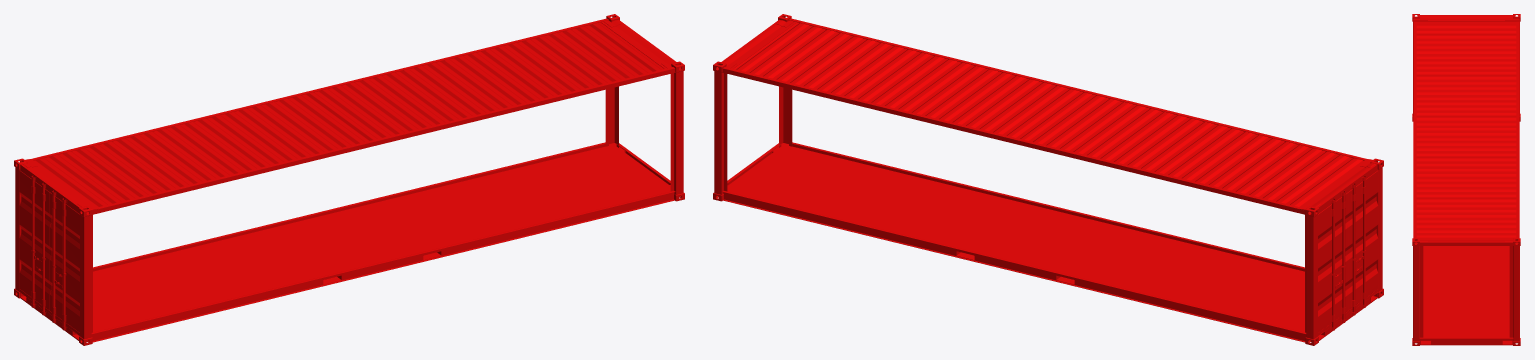
Rendered from container-shell.glb.
3 renders of one model, left to right at view 1: azimuth 30°, elevation 25°; view 2: azimuth 150°, elevation 25°; view 3: azimuth 270°, elevation 25°, orthographic. The views are drawn at different scales.
Size of the model in its own units: 12.14 by 2.59 by 2.44.
